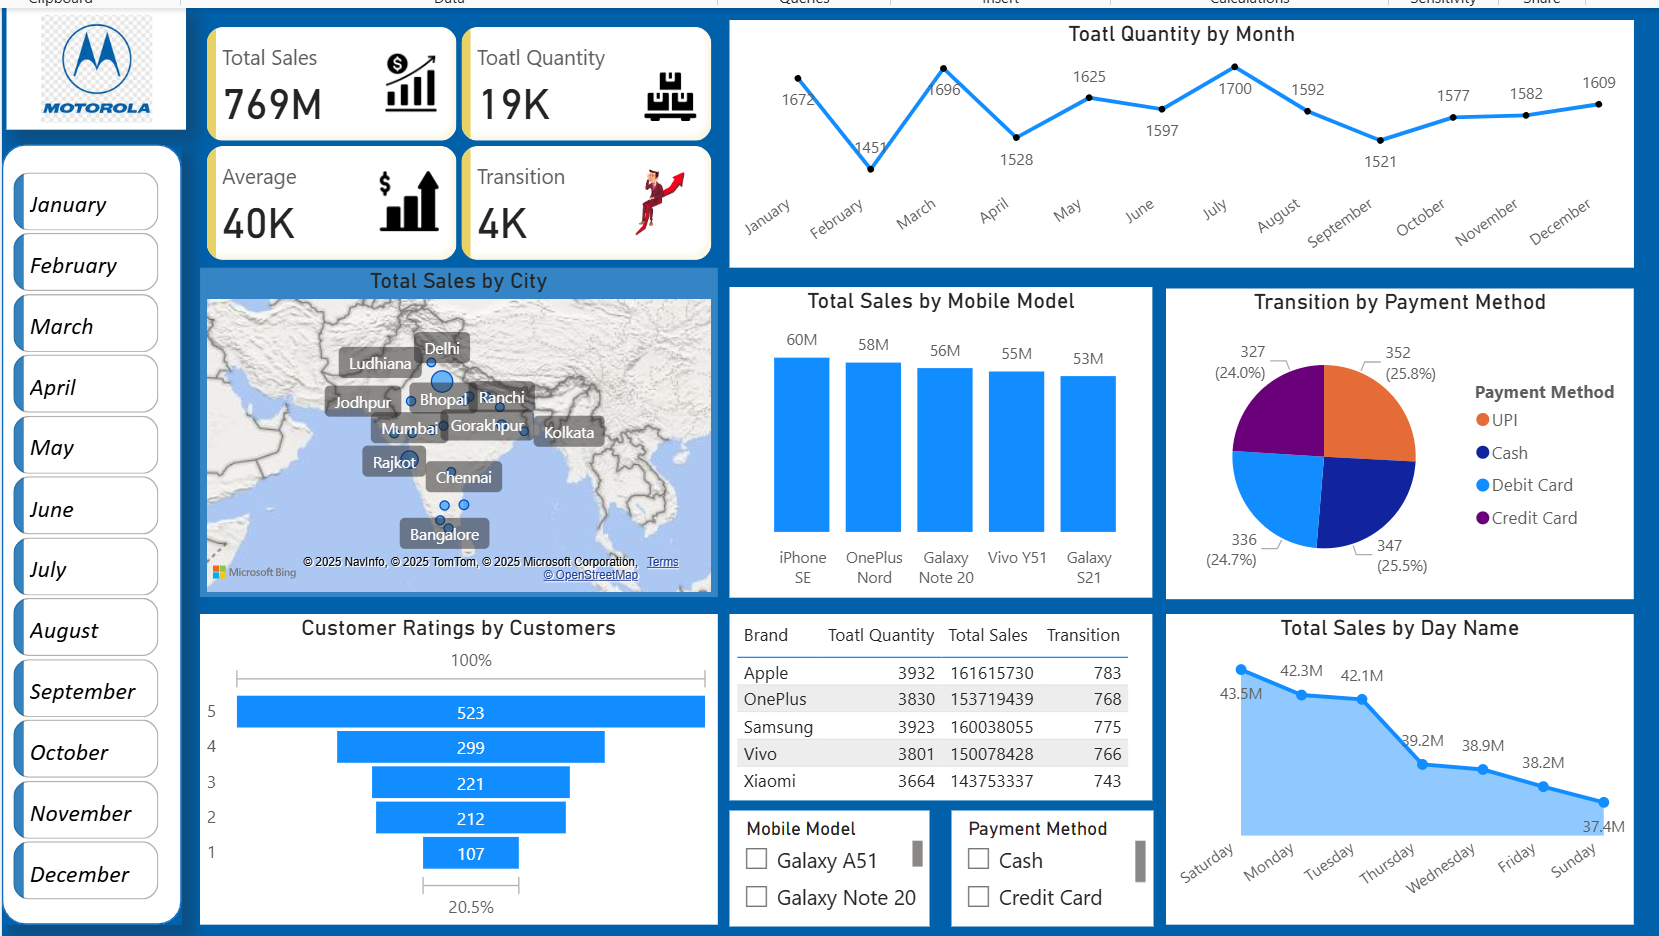

What the dashboard file says about the page in this screenshot:
{"tool":"powerbi","page":{"name":"Page 1","canvas":[1280,720],"ordinal":0},"visuals":[{"type":"image","box":[3.5,9.3,139,85.7],"z":0},{"type":"shape","box":[0,105,138.8,602.5],"z":1000},{"type":"advancedSlicerVisual","fields":{"Values":["Sales Data.Date.Variation.Date Hierarchy.Month"]},"box":[3.8,121.2,122.5,572.5],"z":2000},{"type":"cardVisual","fields":{"Data":["Sales Data.Total Sales","Sales Data.Toatl Quantity","Sales Data.Average","Sales Data.Transition"]},"box":[152.5,8.8,400,191.2],"z":3000},{"type":"map","fields":{"Category":["Sales Data.City"],"Size":["Sales Data.Total Sales"]},"box":[153,200.5,399.8,254.9],"z":3001},{"type":"lineChart","fields":{"Y":["Sales Data.Toatl Quantity"],"Category":["Sales Data.Date.Variation.Date Hierarchy.Month","Sales Data.Date.Variation.Date Hierarchy.Day"]},"box":[562,9.3,698.7,191.2],"z":3002},{"type":"clusteredColumnChart","fields":{"Category":["Sales Data.Mobile Model"],"Y":["Sales Data.Total Sales"]},"box":[562,215.5,326.8,239.9],"z":3003},{"type":"pieChart","fields":{"Category":["Sales Data.Payment Method"],"Y":["Sales Data.Transition"]},"box":[899.2,216.7,361.5,239.9],"z":3004},{"type":"funnel","title":"Customer Ratings by Customers","fields":{"Category":["Sales Data.Customer Ratings"],"Y":["CountNonNull(Sales Data.Customer Ratings)"]},"box":[153,468.1,399.8,239.9],"z":3005},{"type":"areaChart","fields":{"Category":["Sales Data.Day Name"],"Y":["Sales Data.Total Sales"]},"box":[899.2,468.1,361.5,239.9],"z":3006},{"type":"tableEx","fields":{"Values":["Sales Data.Brand","Sales Data.Toatl Quantity","Sales Data.Total Sales","Sales Data.Transition"]},"box":[562,468.1,326.8,143.7],"z":3007},{"type":"slicer","fields":{"Values":["Sales Data.Mobile Model"]},"box":[562,619.9,154.1,89.2],"z":3008},{"type":"slicer","fields":{"Values":["Sales Data.Payment Method"]},"box":[733.5,619.9,155.3,89.2],"z":3009}]}

Visuals, with their boxes in screenshot pixels (x1, y1, x2, y2):
image: bbox(17, 25, 195, 134)
shape: bbox(13, 147, 190, 917)
advancedSlicerVisual - Sales Data.Date.Variation.Date Hierarchy.Month: bbox(18, 168, 174, 900)
cardVisual - Sales Data.Total Sales x Sales Data.Toatl Quantity: bbox(208, 24, 719, 269)
map - Sales Data.City x Sales Data.Total Sales: bbox(209, 269, 720, 595)
lineChart - Sales Data.Toatl Quantity x Sales Data.Date.Variation.Date Hierarchy.Month: bbox(731, 25, 1624, 269)
clusteredColumnChart - Sales Data.Mobile Model x Sales Data.Total Sales: bbox(731, 288, 1149, 595)
pieChart - Sales Data.Payment Method x Sales Data.Transition: bbox(1162, 290, 1624, 597)
"Customer Ratings by Customers" funnel: bbox(209, 611, 720, 918)
areaChart - Sales Data.Day Name x Sales Data.Total Sales: bbox(1162, 611, 1624, 918)
tableEx - Sales Data.Brand x Sales Data.Toatl Quantity: bbox(731, 611, 1149, 795)
slicer - Sales Data.Mobile Model: bbox(731, 805, 928, 919)
slicer - Sales Data.Payment Method: bbox(951, 805, 1149, 919)
